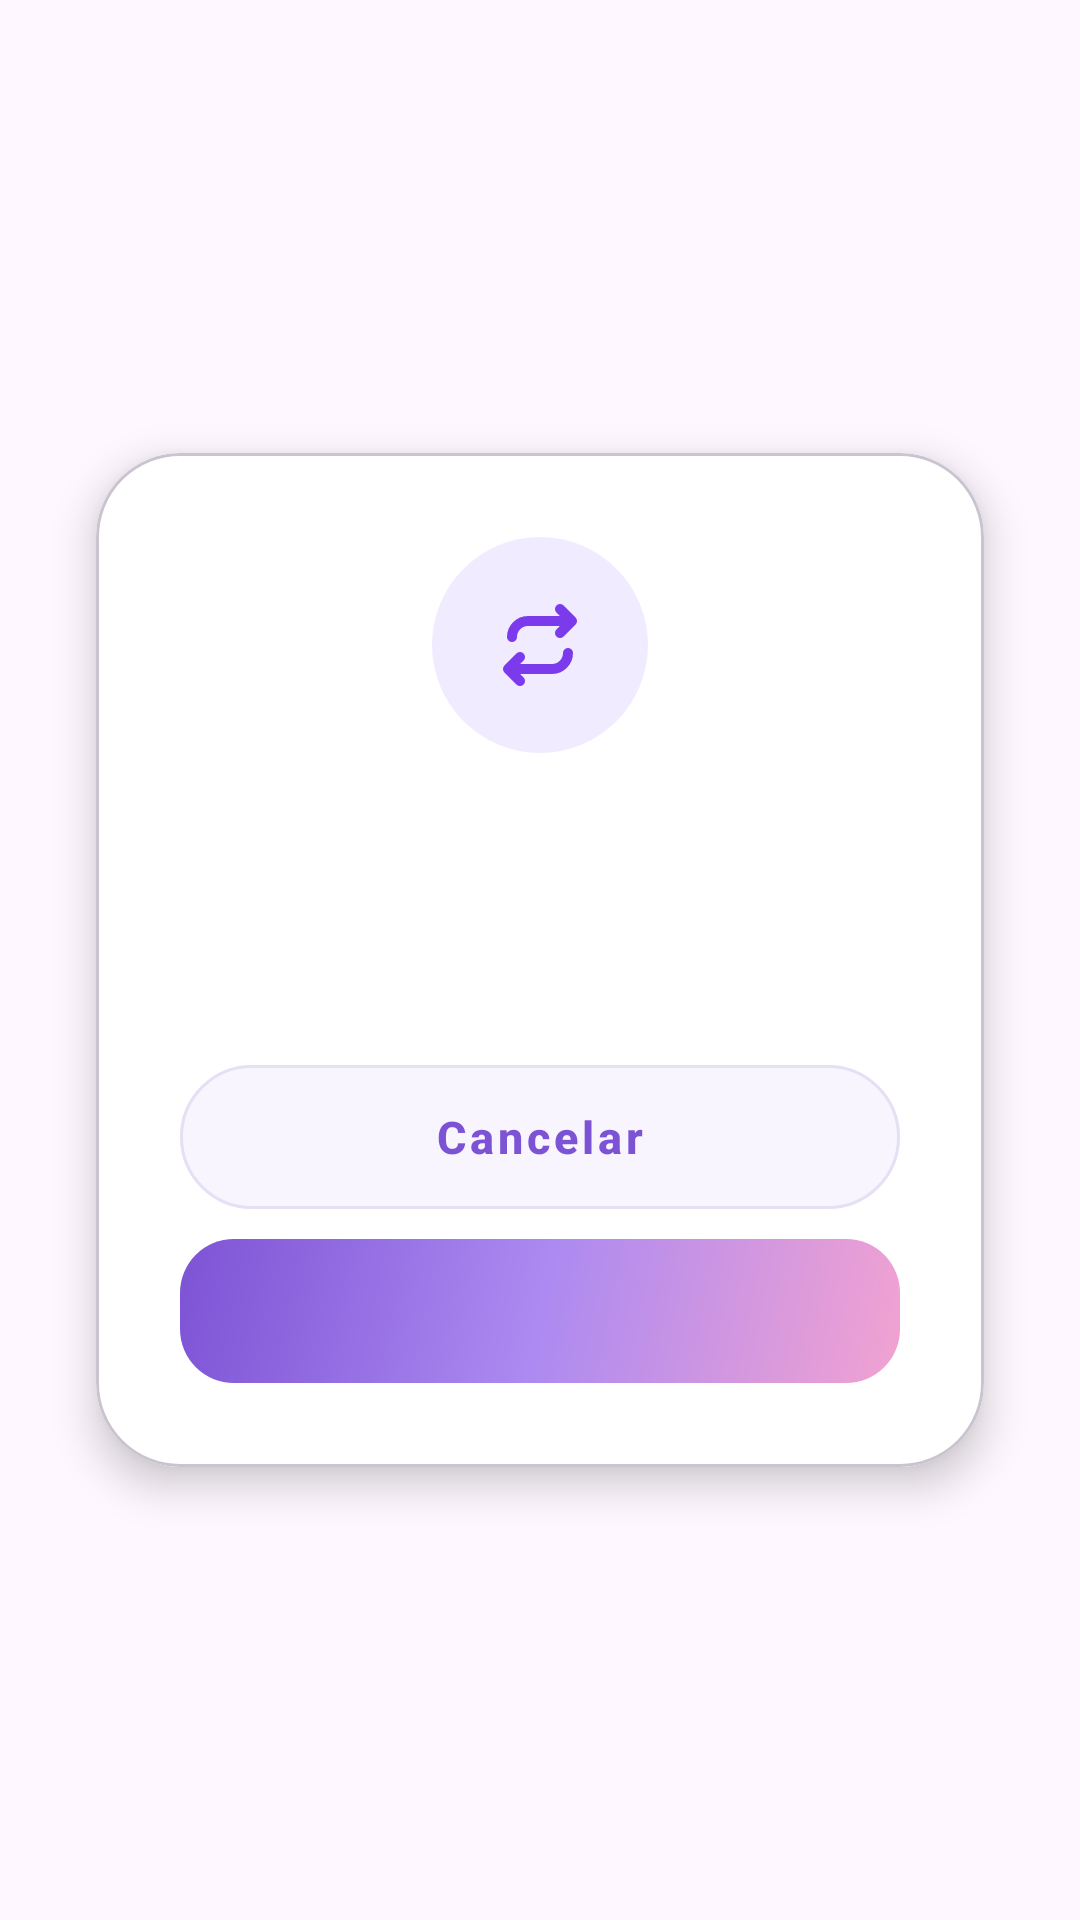

Where to tap for icons on this 1080×1920 app screen, as (x,y):
shift swaps: (540,645)
